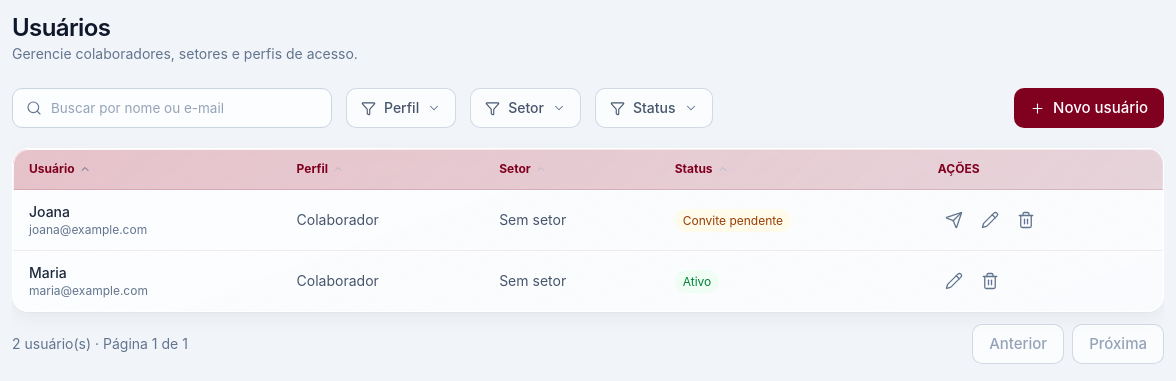
Test case: USU-01/USU-08 — convite pendente › USU-01: mostra o selo e filtra pendentes separados dos ativos
The image size is (1176, 381).
Check: the text "Maria" is shown, box [29,264,67,281]
Check: the text "Convite pendente" is shown, box [675,209,791,232]
Click the 1st button "Status" at (654, 108), box [595,88,713,128]
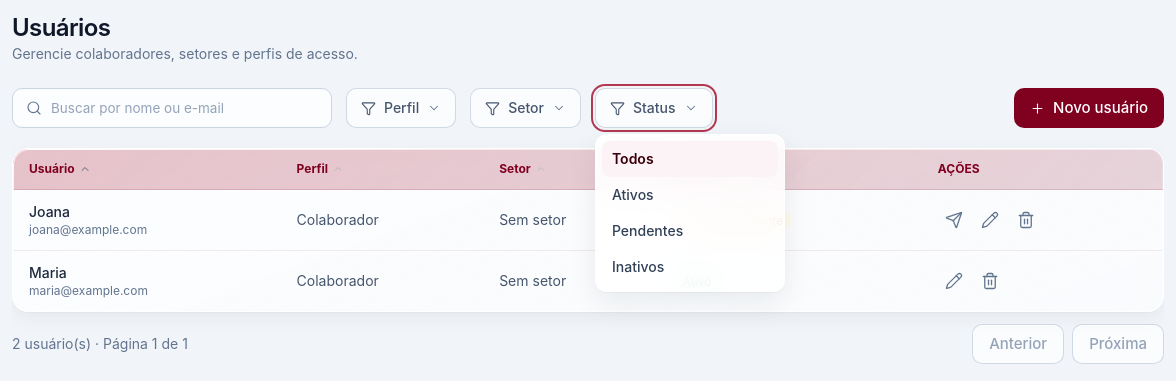
Click the button "Pendentes" at (690, 231), box [602,213,778,249]
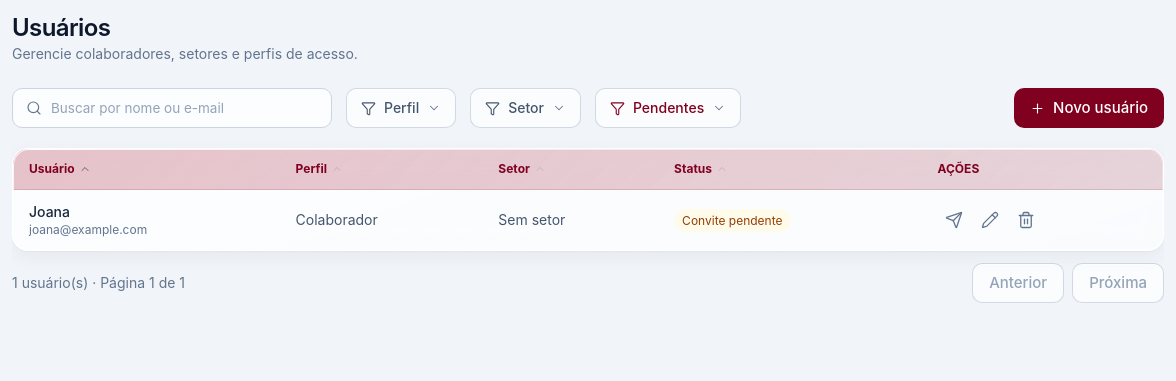
Check: the text "Joana" is shown, box [29,203,70,220]
Check: the text "Maria" is gone
// Com o filtro ativo, o botão do dropdown mostra a opção escolhida.
Click the button "Pendentes" at (668, 108), box [595,88,741,128]
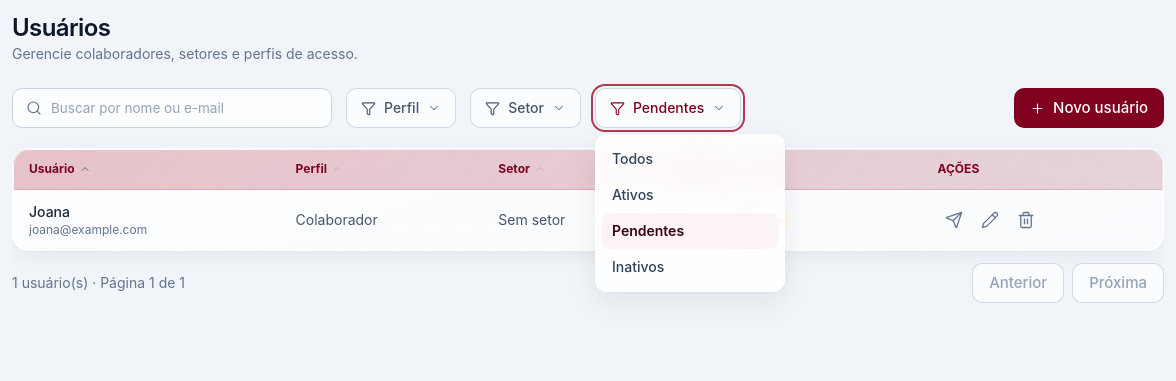
Click the button "Ativos" at (690, 195), box [602,177,778,213]
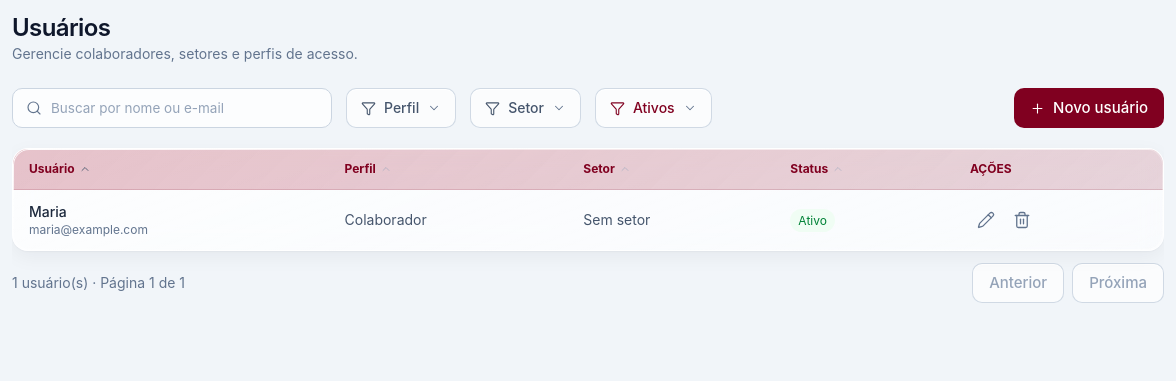
Check: the text "Maria" is shown, box [29,203,67,220]
Check: the text "Joana" is gone
